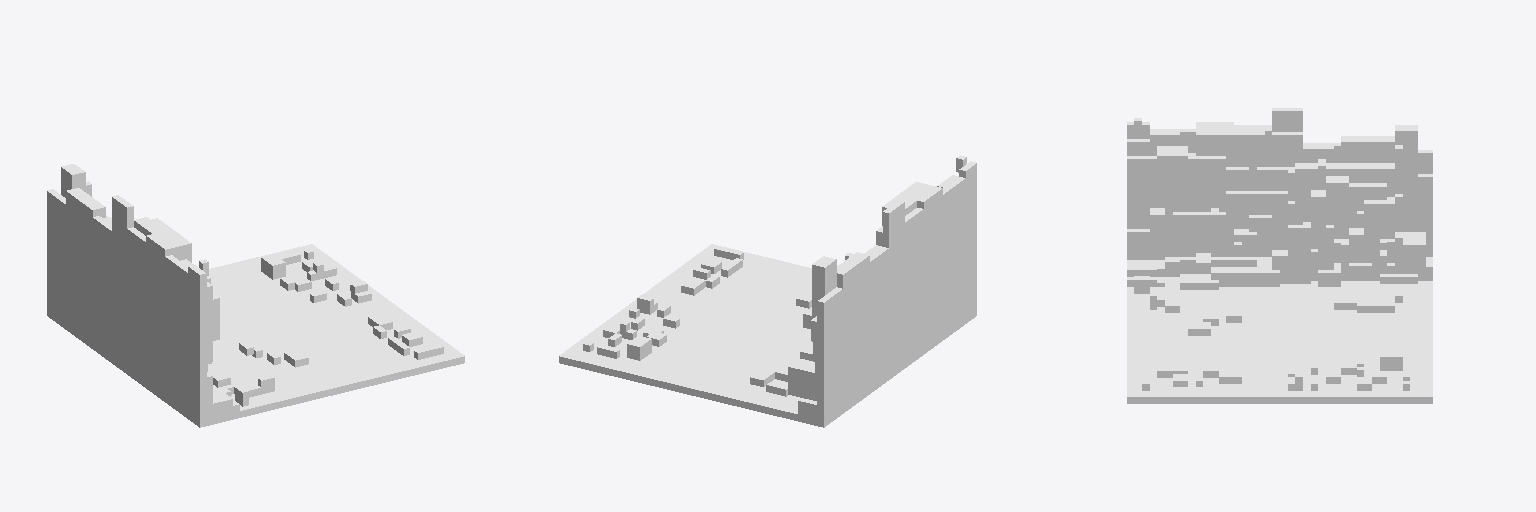
The model's file is floorwall2.obj.
3 views of the same model, side by side, from view 1: azimuth 30°, elevation 25°; view 2: azimuth 150°, elevation 25°; view 3: azimuth 270°, elevation 25° (orthographic).
Parts seen in each view (by area): view 1: floorwall2; view 2: floorwall2; view 3: floorwall2.
Part boxes in pixels (bbox=[...]): floorwall2: bbox=[47, 164, 464, 427]; floorwall2: bbox=[559, 155, 976, 427]; floorwall2: bbox=[1127, 108, 1432, 403].
Size of the model in its own units: 40 by 24 by 40.